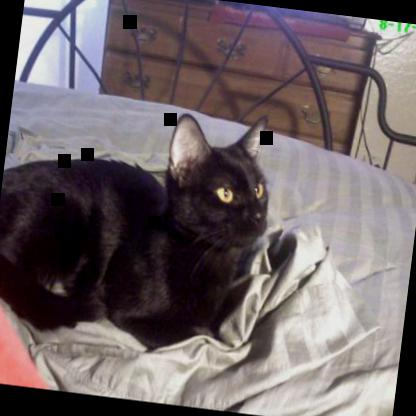cat: (0, 83, 281, 358)
